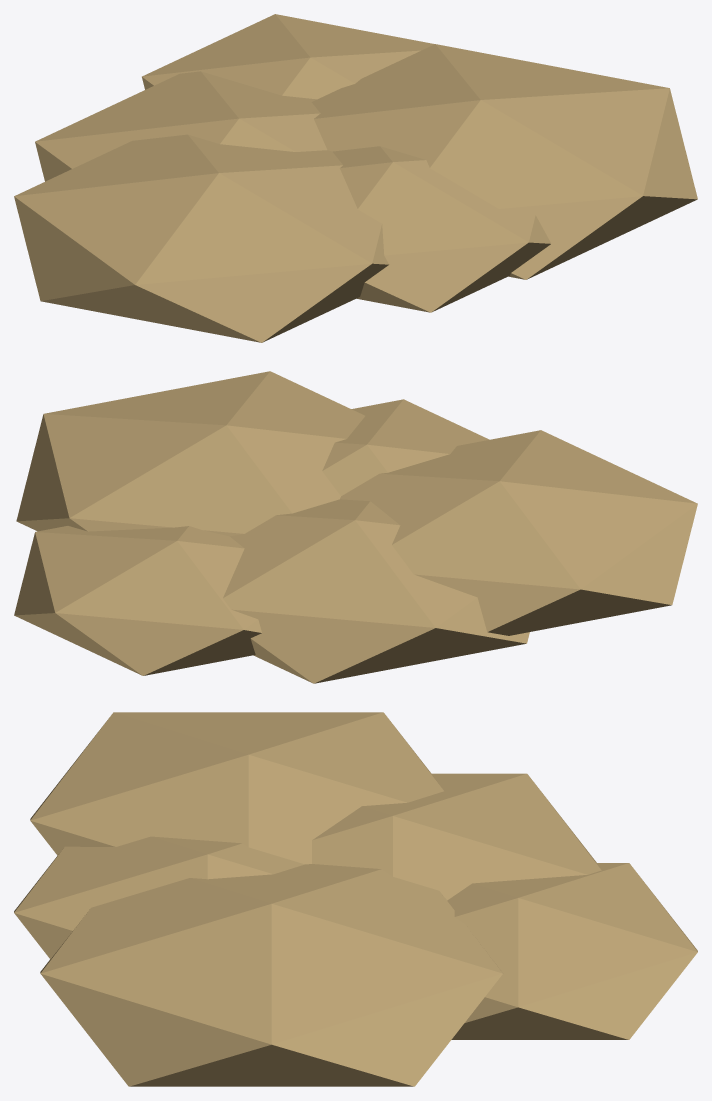
Rendered from mushroom_shelf_log.glb.
The picture shows the model from 3 angles, top to bottom: view 1: azimuth 30°, elevation 25°; view 2: azimuth 150°, elevation 25°; view 3: azimuth 270°, elevation 25°; orthographic projection. The views are drawn at different scales.
Visible parts, largest first — view 1: mushroom_shelf_log; view 2: mushroom_shelf_log; view 3: mushroom_shelf_log.
Boxes of the visible parts, x1=… form: mushroom_shelf_log: x1=14, y1=14, x2=697, y2=342; mushroom_shelf_log: x1=14, y1=371, x2=697, y2=683; mushroom_shelf_log: x1=14, y1=712, x2=697, y2=1086.
Bounding box in the file's own units: 0.5398 × 0.1049 × 0.4486.
